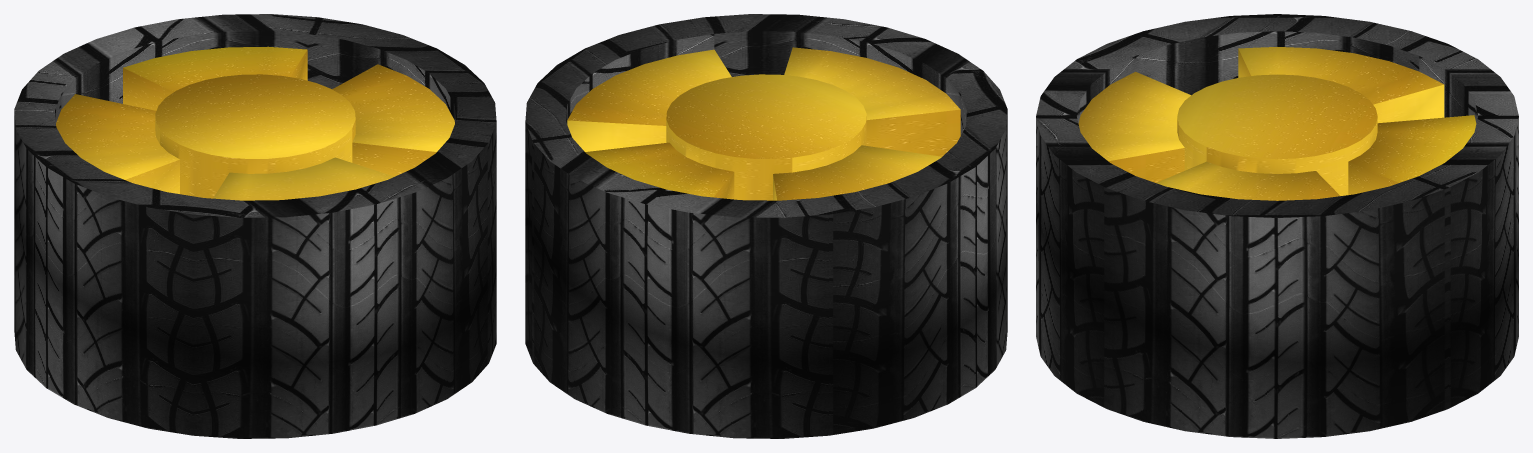
Rendered from Pneu.fbx.
3 renders of one model, left to right at view 1: azimuth 30°, elevation 25°; view 2: azimuth 150°, elevation 25°; view 3: azimuth 270°, elevation 25°, orthographic.
Visible parts, largest first — view 1: pneu frontal 1; view 2: pneu frontal 1; view 3: pneu frontal 1.
Boxes of the visible parts, left/top/right/bottom form: pneu frontal 1: left=14, top=14, right=496, bottom=438; pneu frontal 1: left=525, top=14, right=1007, bottom=438; pneu frontal 1: left=1036, top=14, right=1518, bottom=438.
Size of the model in its own units: 106 by 53.64 by 106.
3 materials, 2 textured.
